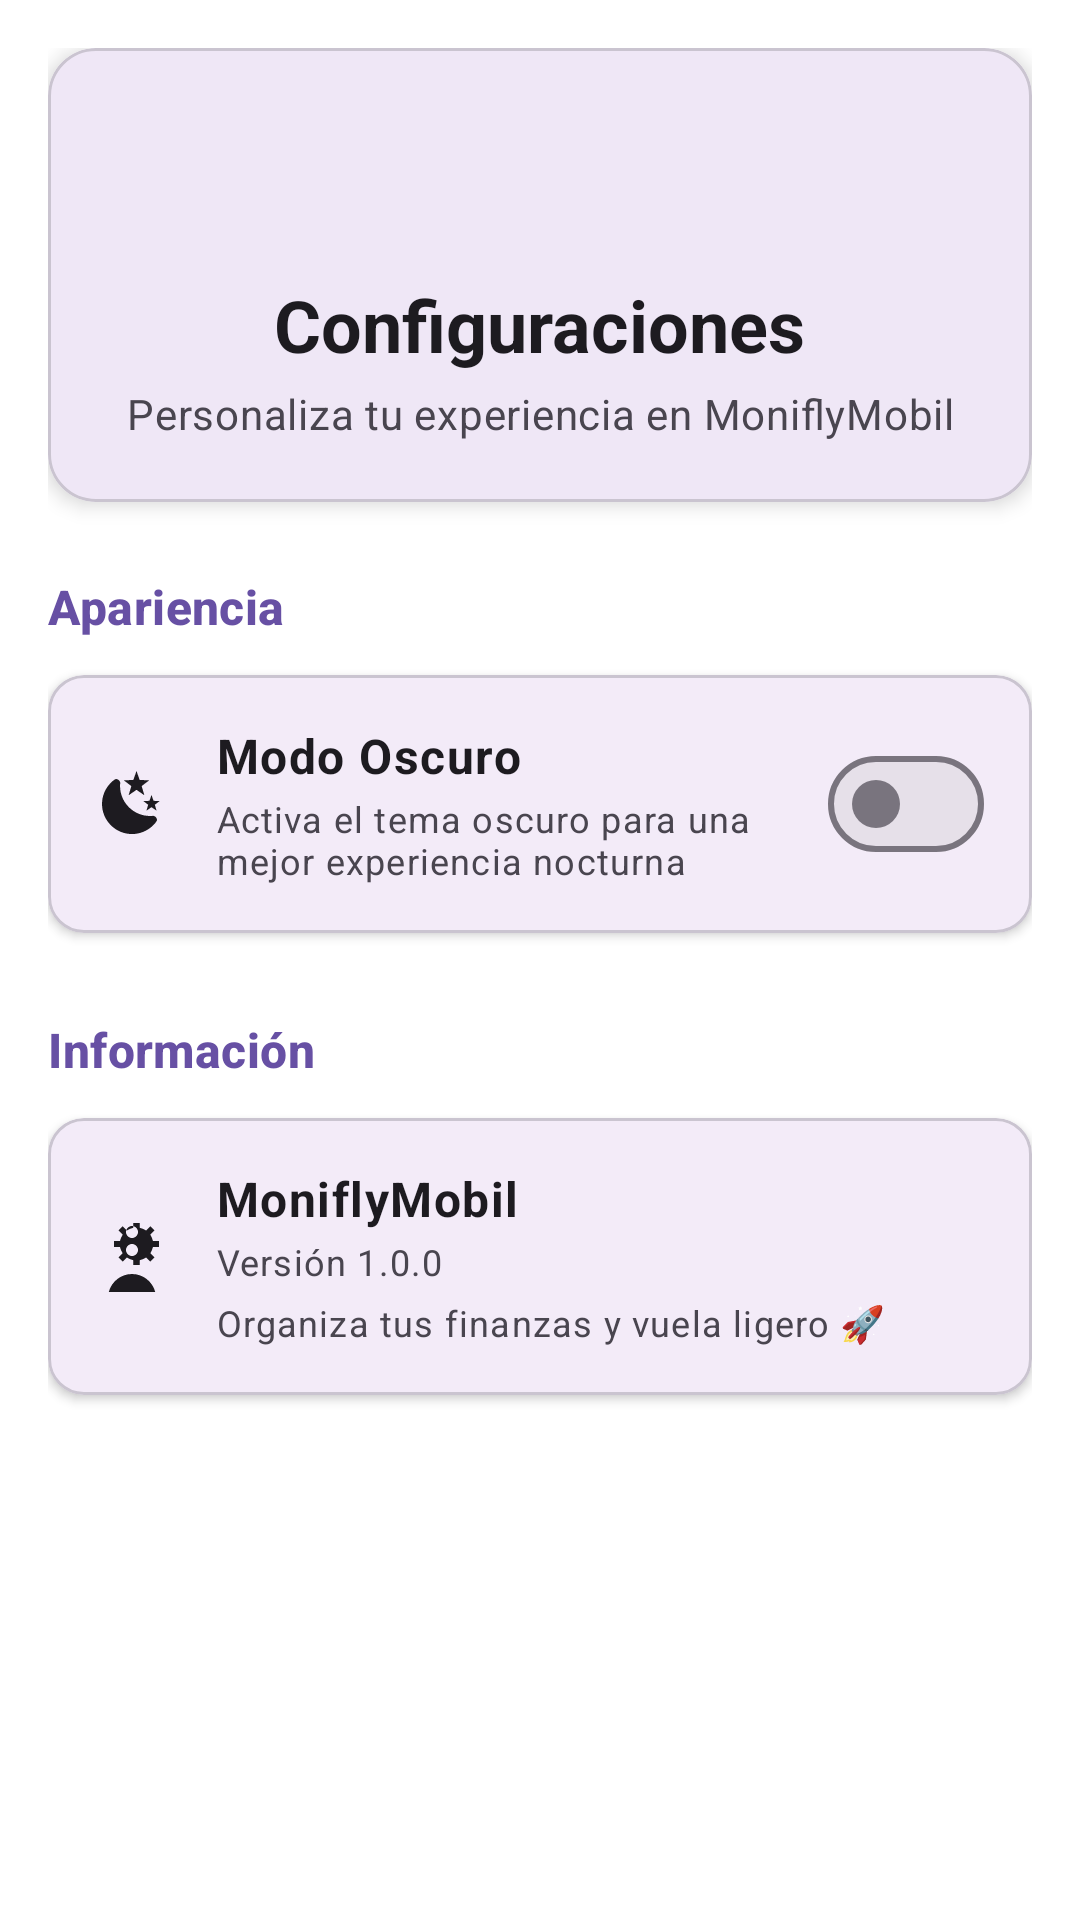

Locate icon controls on the screen. Image size 1080*1920, boxes as (x1, y1, x2, y2).
mode: (102, 771, 160, 834)
